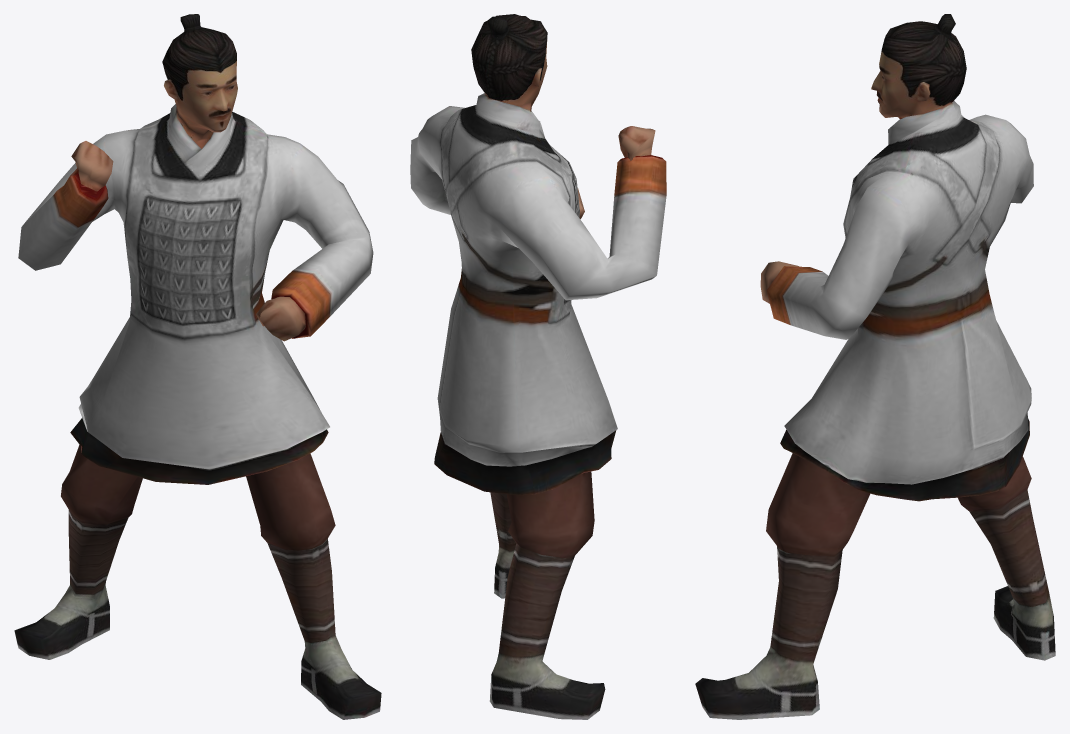
Rendered from body-mediuminfantry.glb.
3 views of the same model, side by side, from view 1: azimuth 30°, elevation 25°; view 2: azimuth 150°, elevation 25°; view 3: azimuth 270°, elevation 25° (orthographic). The views are drawn at different scales.
Bounding box in the file's own units: 1 × 2.04 × 1.
1 material, 1 textured.
